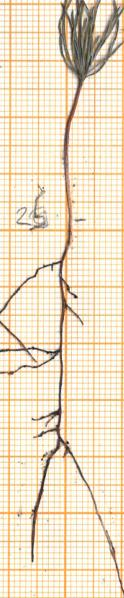flower: (46, 0, 124, 85)
root: (0, 223, 124, 598)
stem: (55, 85, 88, 221)
